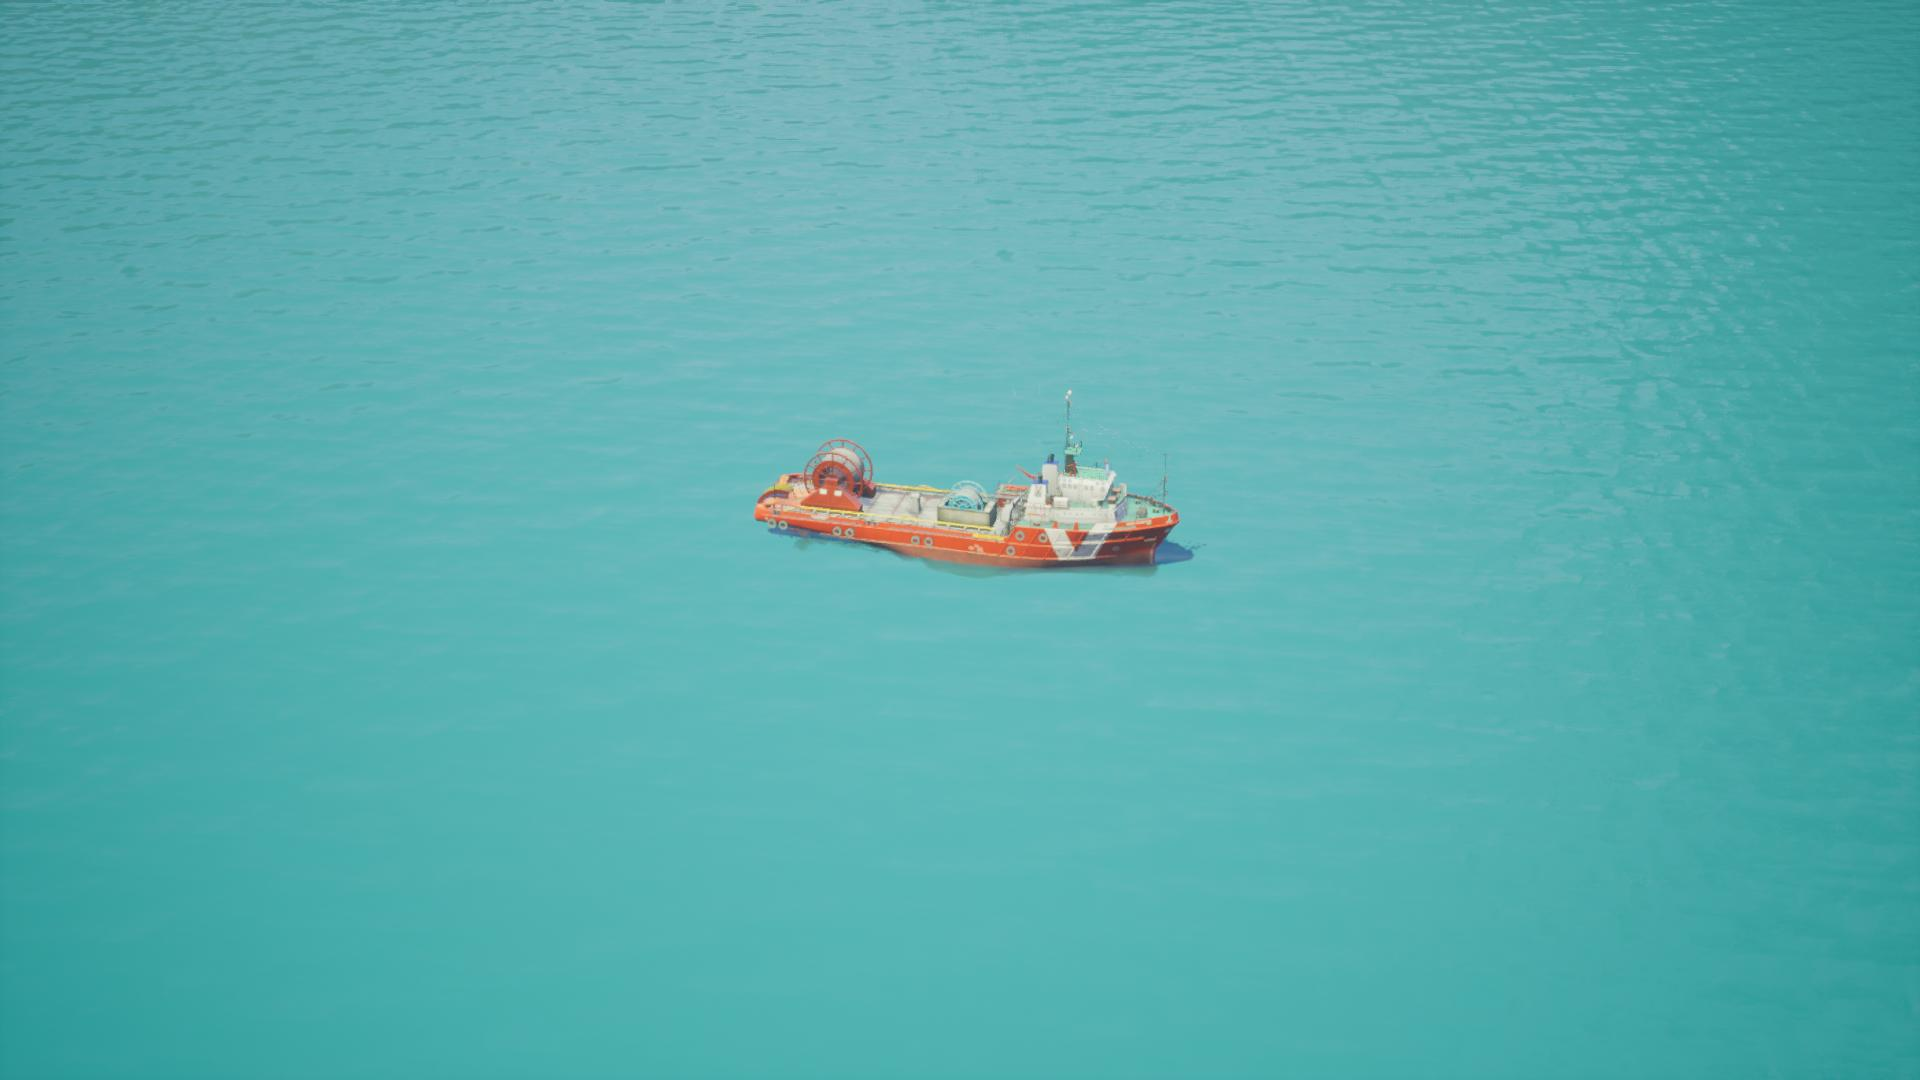Tug Boat: (732, 339, 1251, 700)
